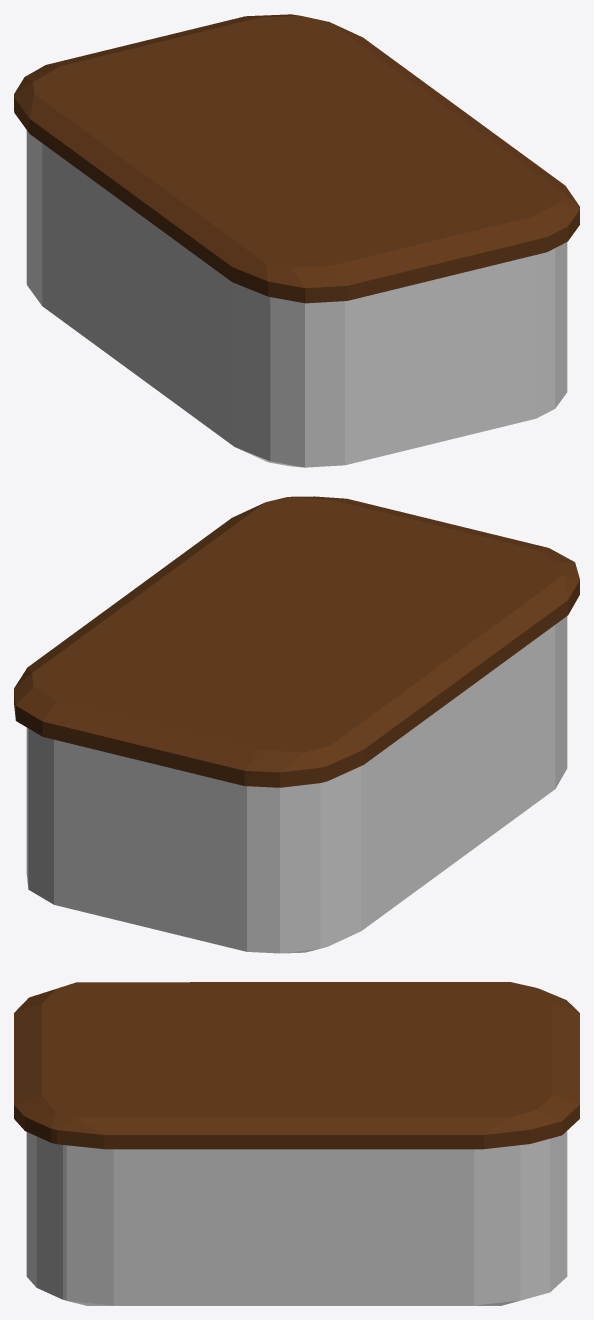
File: Eispackung 2.fbx
3 renders of one model, top to bottom at view 1: azimuth 30°, elevation 25°; view 2: azimuth 150°, elevation 25°; view 3: azimuth 270°, elevation 25°, orthographic. The views are drawn at different scales.
Parts seen in each view (by area): view 1: Cube; view 2: Cube; view 3: Cube.
Part boxes in pixels (x1=…): Cube: x1=14, y1=14, x2=579, y2=467; Cube: x1=14, y1=496, x2=579, y2=953; Cube: x1=14, y1=982, x2=579, y2=1305.
Bounding box in the file's own units: 171 × 100 × 268.
